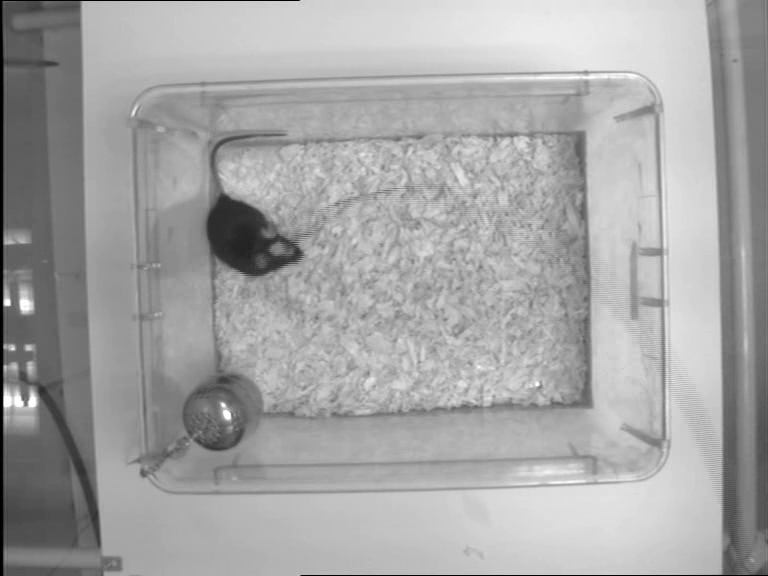mice: (204, 129, 306, 276)
